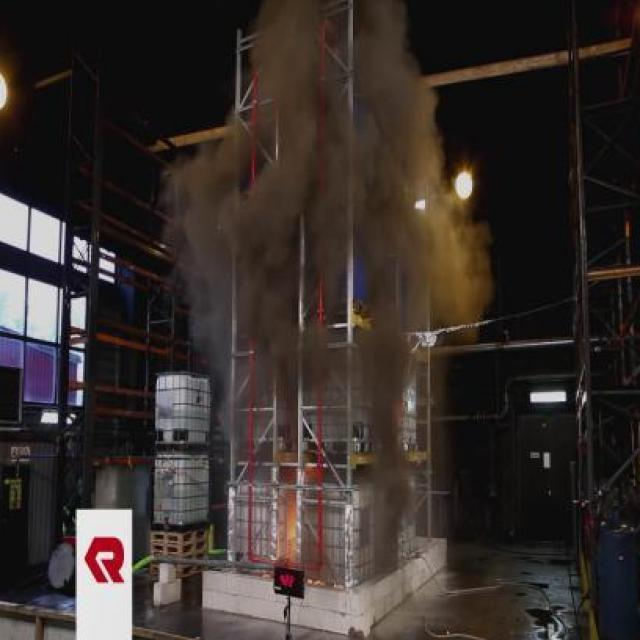fire: (372, 0, 504, 461), (158, 69, 278, 386)
